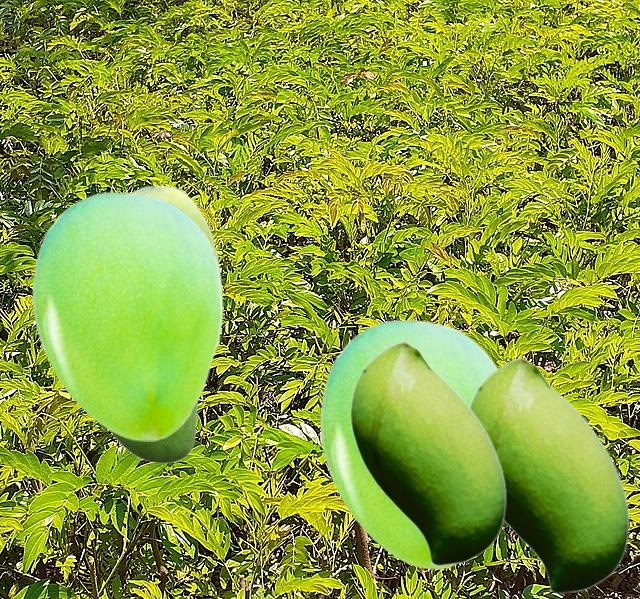green_mango: (31, 191, 222, 440), (319, 319, 499, 568), (468, 356, 628, 593), (349, 340, 505, 565), (109, 184, 219, 463)
